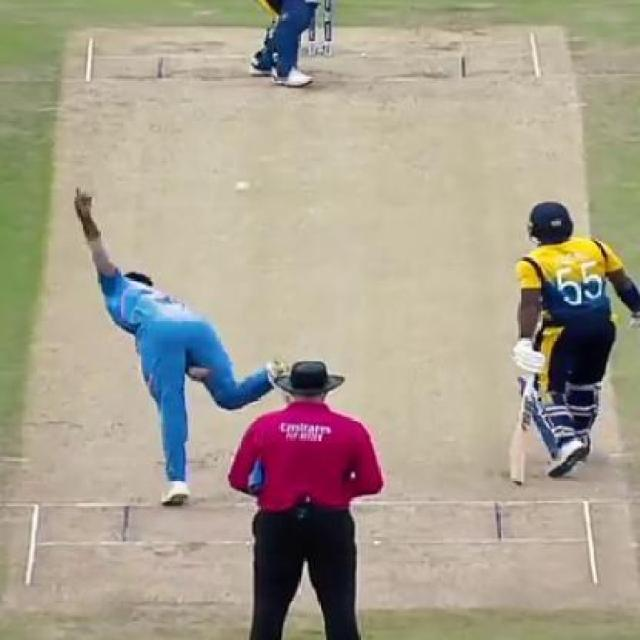Cricket ball: (235, 180, 253, 197)
